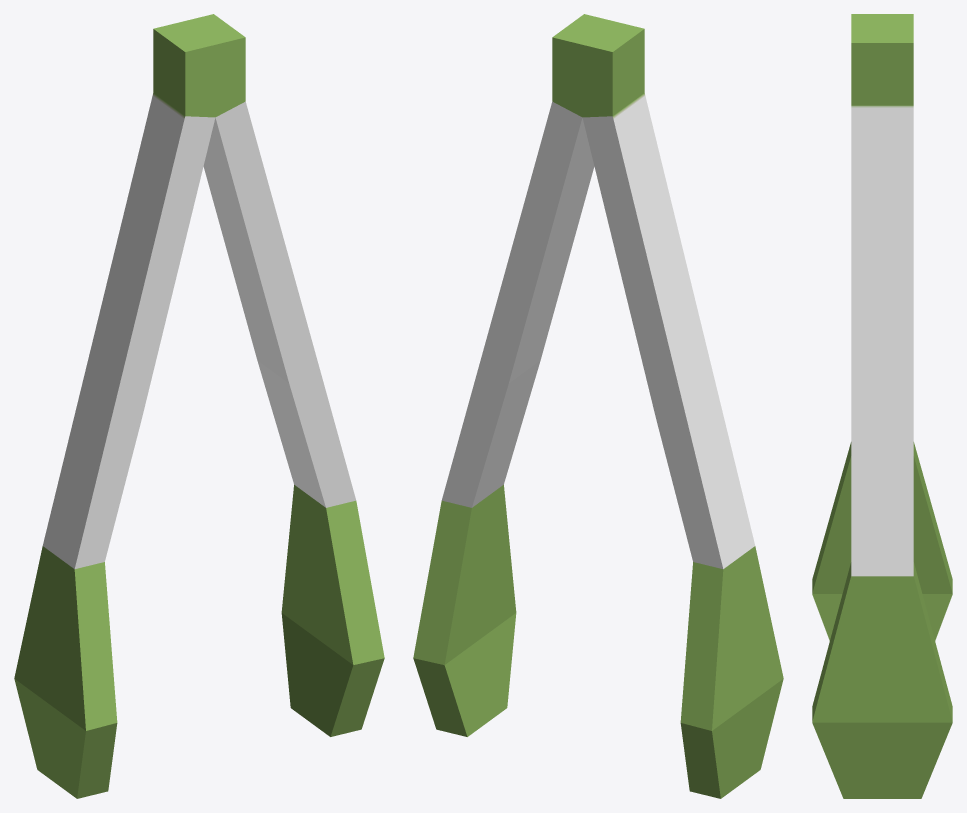
Rendered from tongs2_PLY.fbx.
The picture shows the model from 3 angles, left to right: view 1: azimuth 30°, elevation 25°; view 2: azimuth 150°, elevation 25°; view 3: azimuth 270°, elevation 25°; orthographic projection. The views are drawn at different scales.
Parts seen in each view (by area): view 1: tongs2_PLY; view 2: tongs2_PLY; view 3: tongs2_PLY.
Part boxes in pixels (x1,y1,x2,y2): tongs2_PLY: [14, 14, 384, 798]; tongs2_PLY: [413, 14, 783, 798]; tongs2_PLY: [812, 14, 952, 798].
Size of the model in its own units: 0.6567 by 1.51 by 0.2732.
